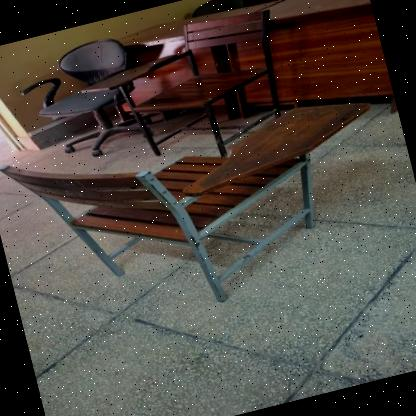chair: (0, 65, 410, 349), (70, 0, 307, 186), (9, 25, 171, 174)
